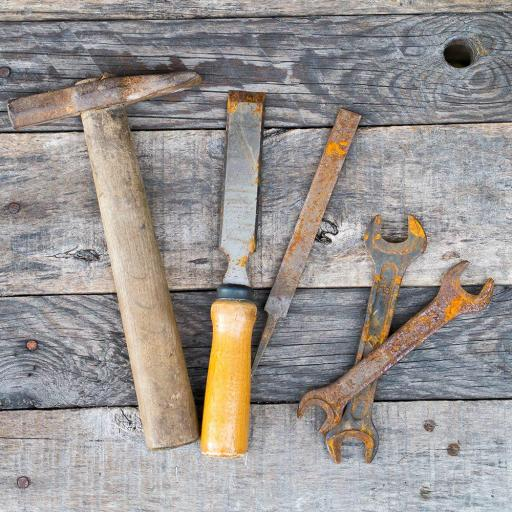segmentation: (301, 264, 494, 462), (94, 115, 190, 448), (268, 109, 357, 322), (12, 63, 199, 128), (204, 299, 250, 455), (229, 92, 262, 106), (448, 442, 459, 455), (424, 422, 435, 434), (18, 477, 29, 489), (1, 67, 10, 76), (27, 341, 35, 351)
